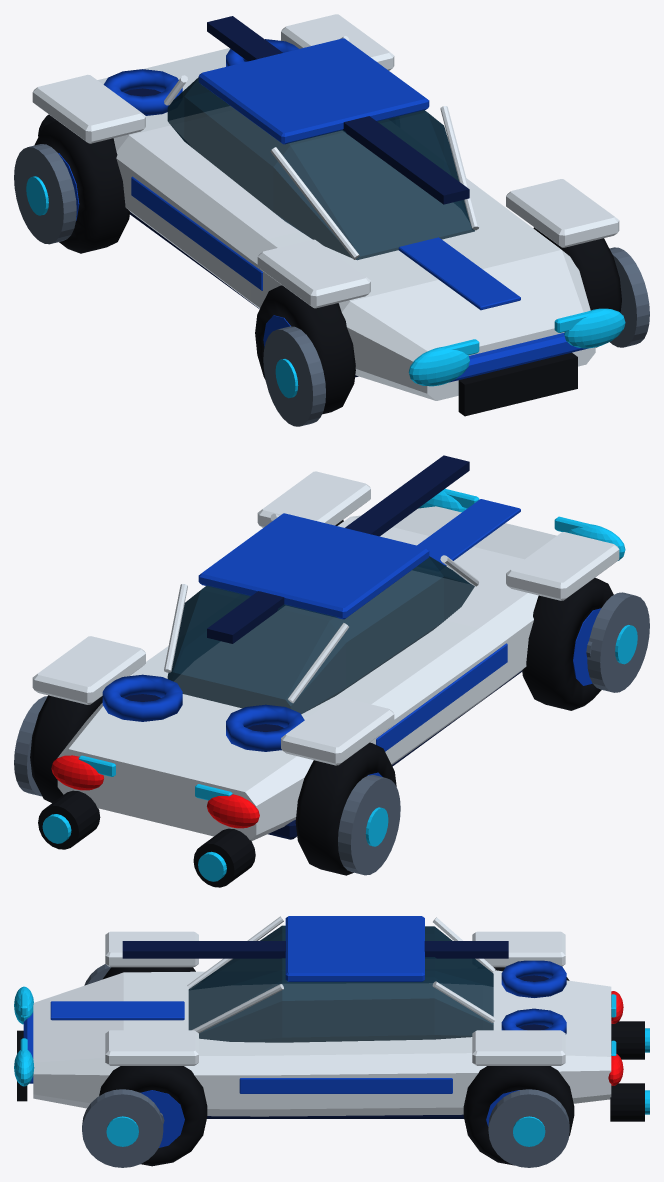
Rendered from astra_carro_detallado.obj.
3 renders of one model, top to bottom at view 1: azimuth 30°, elevation 25°; view 2: azimuth 150°, elevation 25°; view 3: azimuth 270°, elevation 25°, orthographic. The views are drawn at different scales.
Parts seen in each view (by area): view 1: astra_carro, Astra_Center_Stripe, Astra_Front_Grille, Astra_Rim_Rear_L, Astra_Rim_Front_L, Astra_Rim_Front_R, Astra_Headlight_L, Astra_Headlight_R, Astra_Hub_Rear_L, Astra_Hub_Front_L; view 2: astra_carro, Astra_Center_Stripe, Astra_Rim_Rear_L, Astra_Rim_Front_L, Astra_Car_Exhaust_L, Astra_Car_Exhaust_R, Astra_Rim_Rear_R, Astra_Taillight_L, Astra_Taillight_R, Astra_Hub_Front_L, Astra_Hub_Rear_L, Astra_Headlight_L (+2 smaller); view 3: astra_carro, Astra_Center_Stripe, Astra_Rim_Rear_R, Astra_Rim_Front_R, Astra_Car_Exhaust_R, Astra_Car_Exhaust_L, Astra_Hub_Front_R, Astra_Hub_Rear_R, Astra_Headlight_R, Astra_Headlight_L.
Part boxes in pixels (<box>): astra_carro: <box>32,14,621,414</box>; Astra_Center_Stripe: <box>207,16,469,204</box>; Astra_Front_Grille: <box>458,352,577,416</box>; Astra_Rim_Rear_L: <box>14,144,76,244</box>; Astra_Rim_Front_L: <box>263,326,325,426</box>; Astra_Rim_Front_R: <box>609,247,649,347</box>; Astra_Headlight_L: <box>408,347,469,386</box>; Astra_Headlight_R: <box>564,308,625,348</box>; Astra_Hub_Rear_L: <box>26,176,48,215</box>; Astra_Hub_Front_L: <box>275,359,298,398</box>; astra_carro: <box>30,471,619,875</box>; Astra_Center_Stripe: <box>207,455,469,643</box>; Astra_Rim_Rear_L: <box>338,775,400,875</box>; Astra_Rim_Front_L: <box>587,592,649,692</box>; Astra_Car_Exhaust_L: <box>193,828,255,887</box>; Astra_Car_Exhaust_R: <box>38,790,100,849</box>; Astra_Rim_Rear_R: <box>14,696,47,796</box>; Astra_Taillight_L: <box>207,794,259,828</box>; Astra_Taillight_R: <box>51,755,103,790</box>; Astra_Hub_Front_L: <box>615,625,637,664</box>; Astra_Hub_Rear_L: <box>365,807,388,846</box>; Astra_Headlight_L: <box>567,524,625,560</box>; astra_carro: <box>20,916,616,1166</box>; Astra_Center_Stripe: <box>122,941,508,958</box>; Astra_Rim_Rear_R: <box>488,1089,569,1167</box>; Astra_Rim_Front_R: <box>82,1089,163,1167</box>; Astra_Car_Exhaust_R: <box>610,1083,644,1121</box>; Astra_Car_Exhaust_L: <box>611,1021,644,1059</box>; Astra_Hub_Front_R: <box>106,1116,138,1146</box>; Astra_Hub_Rear_R: <box>513,1116,545,1146</box>; Astra_Headlight_R: <box>14,1050,34,1086</box>; Astra_Headlight_L: <box>14,986,33,1024</box>.
Bounding box in the file's own units: 3.17 × 1.78 × 6.26.
